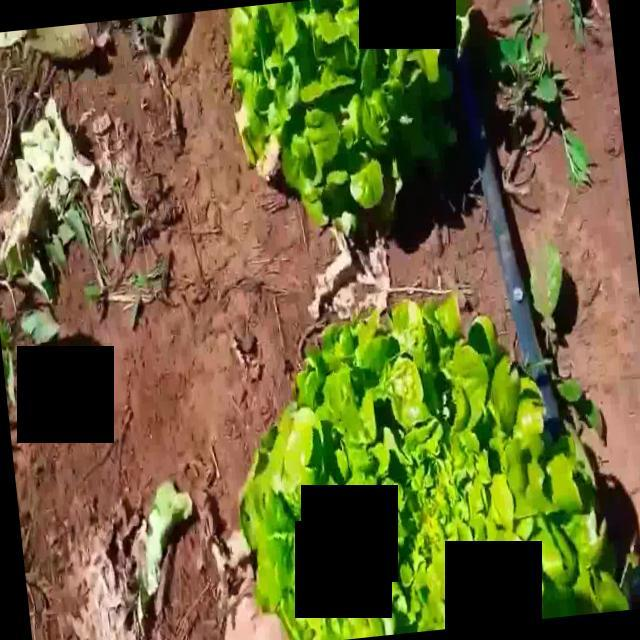Lettuce: (244, 291, 635, 640), (226, 0, 471, 226)
